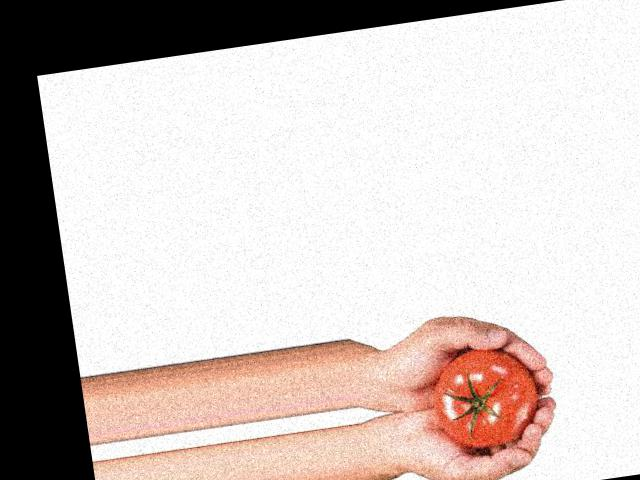tomato: (429, 342, 542, 453)
